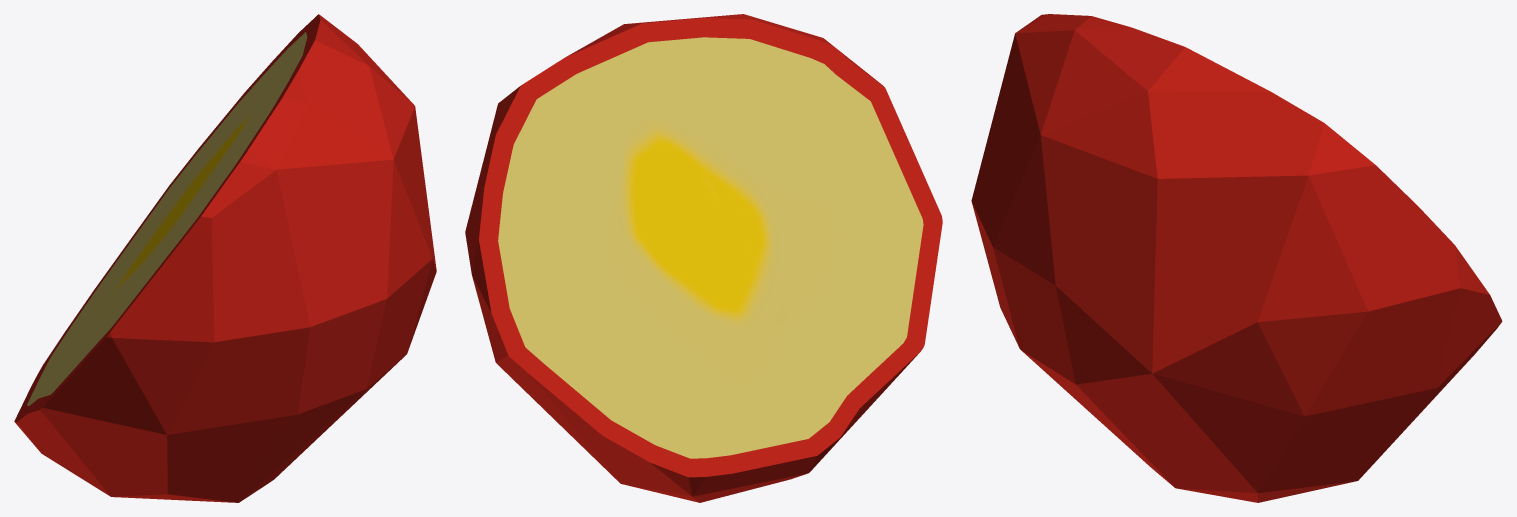
Rendered from Apple2.fbx.
3 renders of one model, left to right at view 1: azimuth 30°, elevation 25°; view 2: azimuth 150°, elevation 25°; view 3: azimuth 270°, elevation 25°, orthographic. The views are drawn at different scales.
Visible parts, largest first — view 1: Circle; view 2: Circle; view 3: Circle.
Part boxes in pixels (x1,y1,x2,y2): Circle: (14,14,436,502); Circle: (465,14,942,502); Circle: (971,14,1502,502).
Size of the model in its own units: 184 by 183 by 187.
